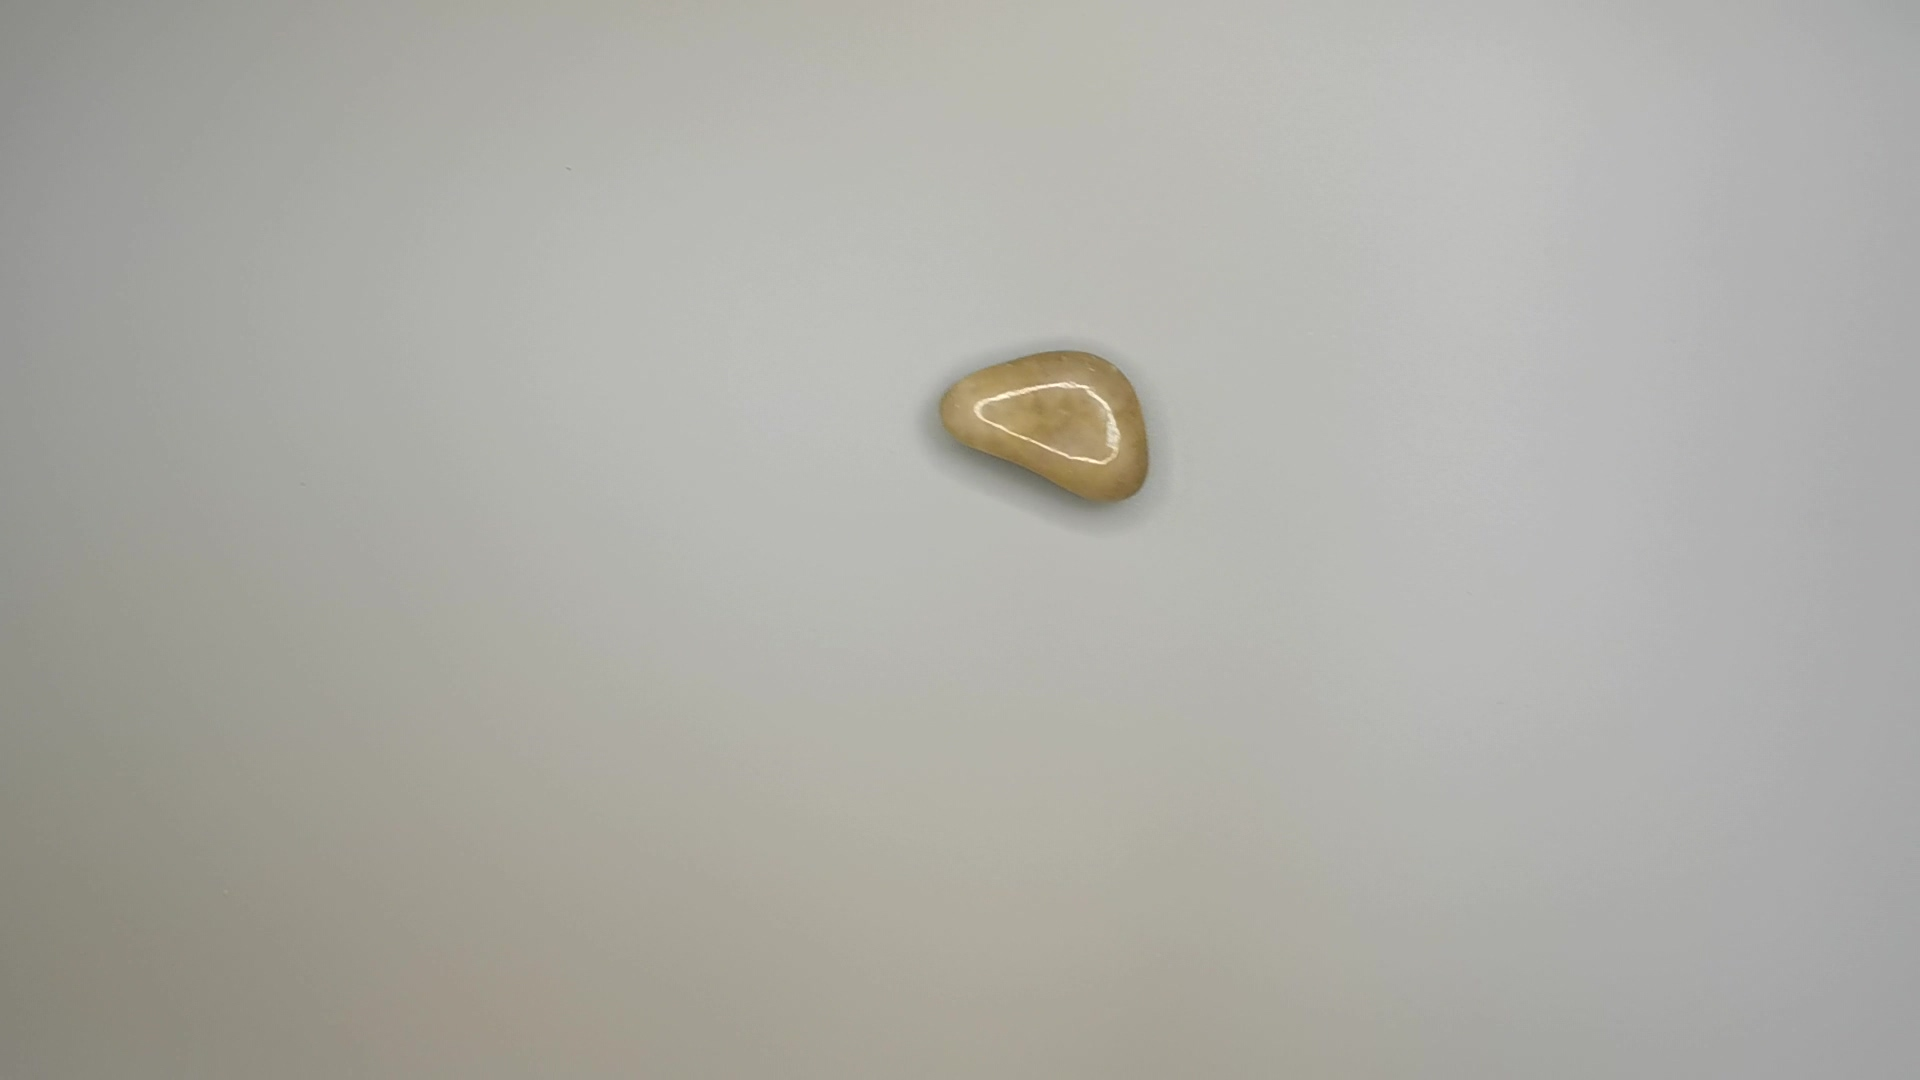ceramic: (934, 342, 1154, 513)
